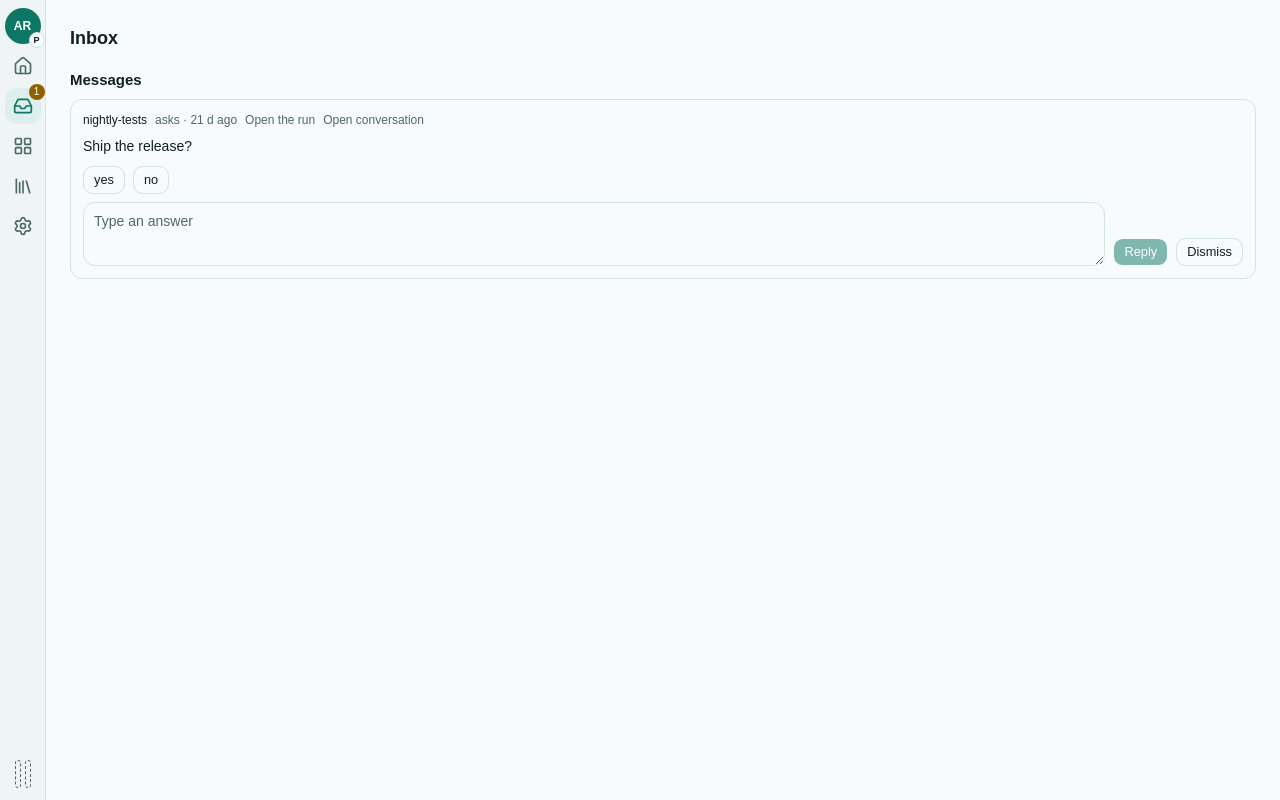
it: the Inbox's messages › shows a refused answer as the core words it
This screenshot has width=1280, height=800.
Click the button "yes" at (104, 180), box [83,166,125,194]
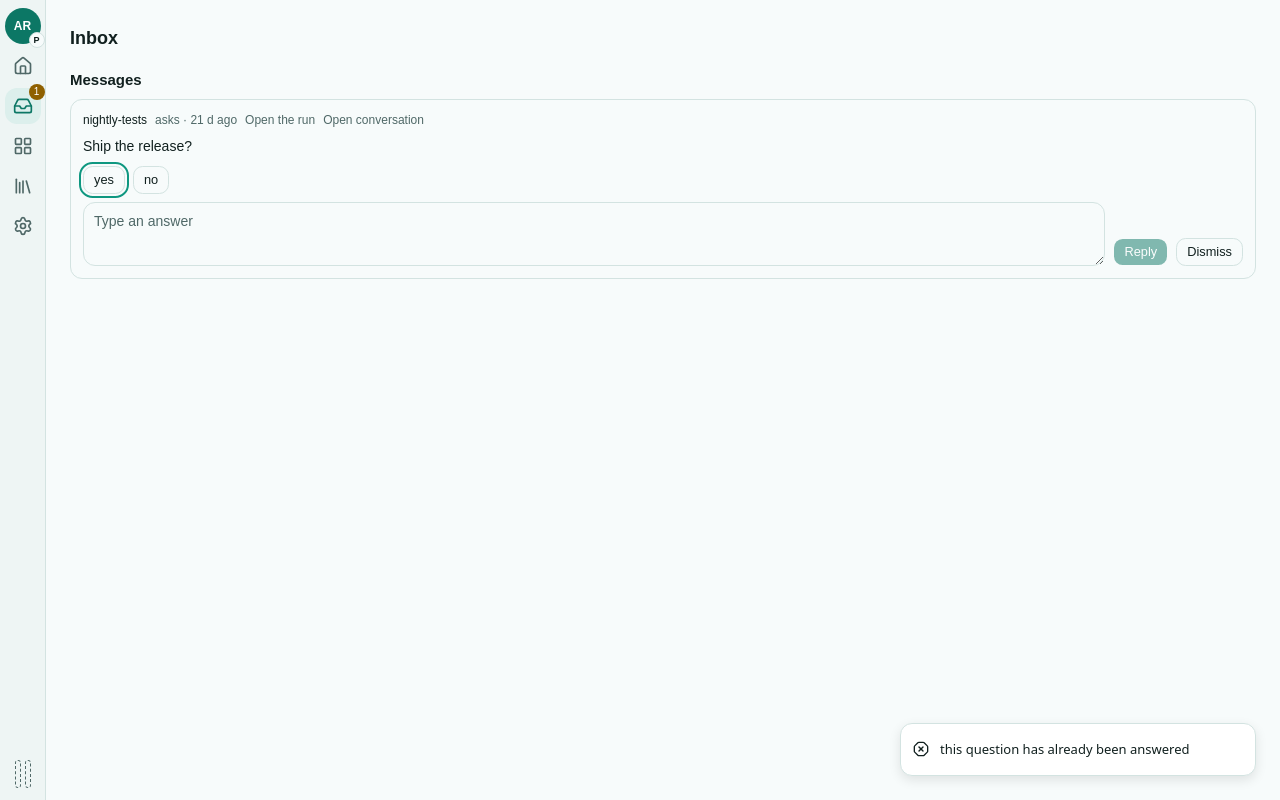
Expected: the text "this question has already been answered" is shown, [940,740,1190,759]
